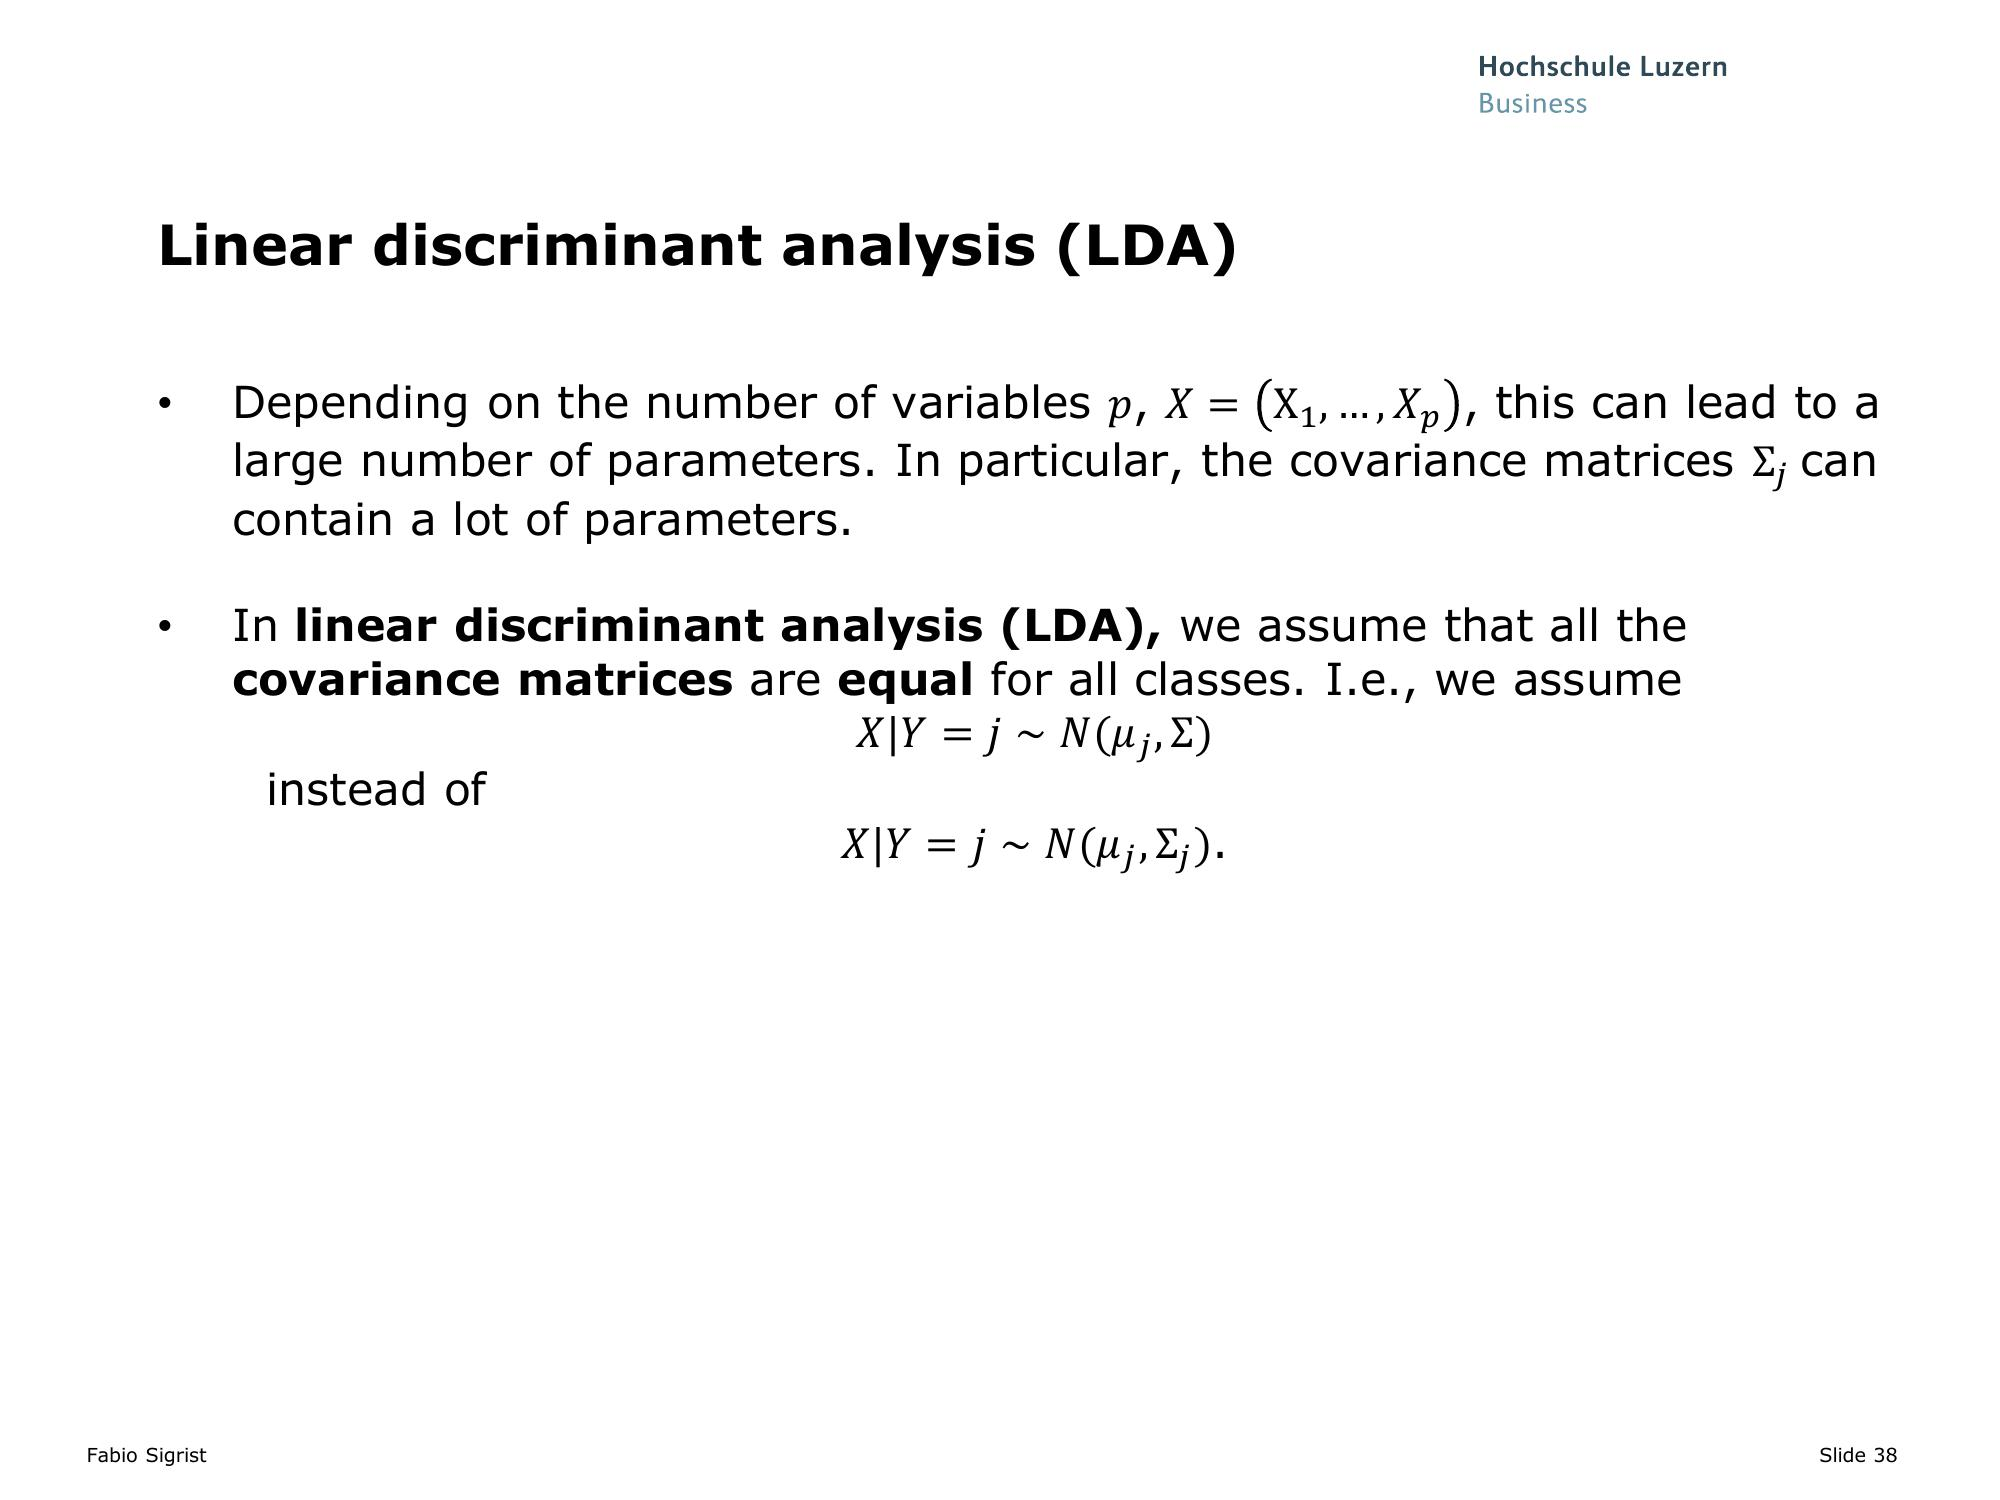Title: (139, 203, 1254, 296)
